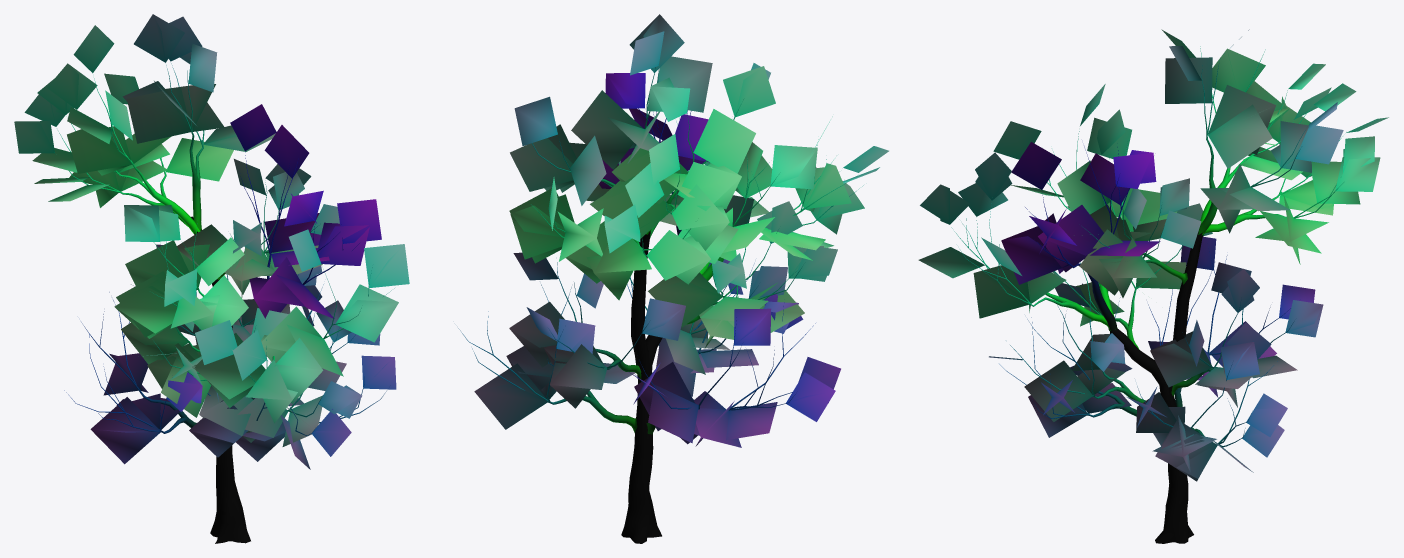
File: SM_Tree1.glb
The picture shows the model from 3 angles, left to right: view 1: azimuth 30°, elevation 25°; view 2: azimuth 150°, elevation 25°; view 3: azimuth 270°, elevation 25°; orthographic projection. The views are drawn at different scales.
Visible parts, largest first — view 1: Leaves, Tree; view 2: Leaves, Tree; view 3: Leaves, Tree.
Boxes of the visible parts, x1=… form: Leaves: x1=14, y1=14, x2=409, y2=469; Tree: x1=58, y1=63, x2=394, y2=543; Leaves: x1=474, y1=14, x2=888, y2=447; Tree: x1=458, y1=67, x2=863, y2=543; Leaves: x1=918, y1=29, x2=1388, y2=481; Tree: x1=951, y1=46, x2=1343, y2=543.
Size of the model in its own units: 11.43 by 17.12 by 14.77.
